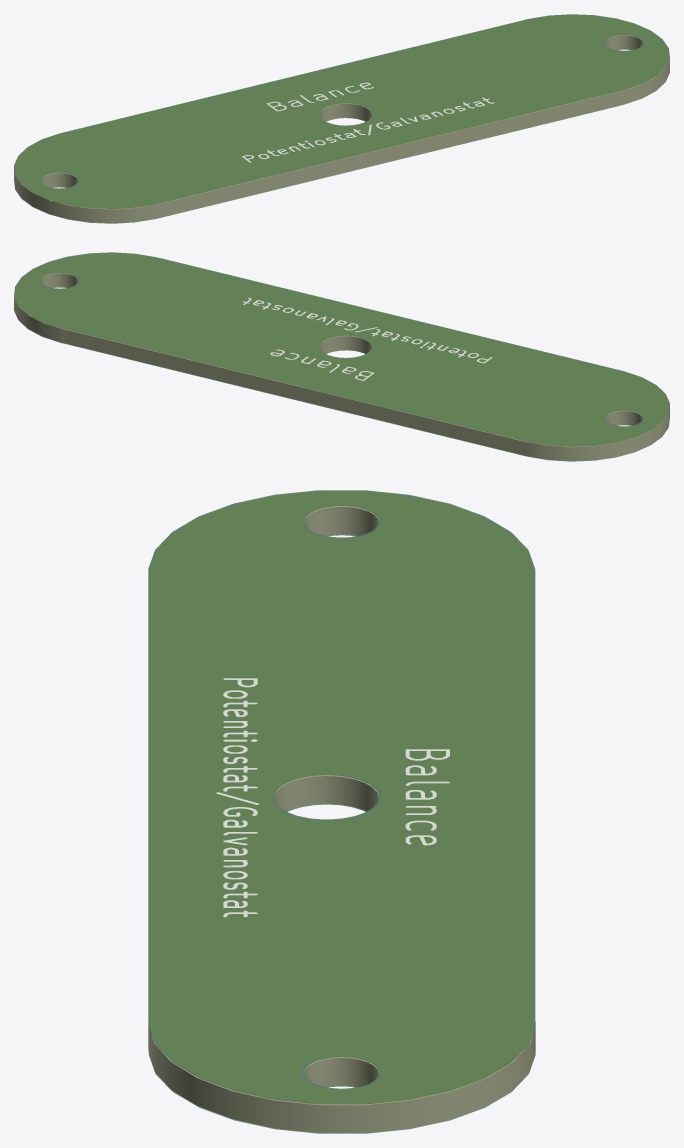
The model's file is front_panel.glb.
3 views of the same model, one above another, from view 1: azimuth 30°, elevation 25°; view 2: azimuth 150°, elevation 25°; view 3: azimuth 270°, elevation 25° (orthographic). The views are drawn at different scales.
Parts seen in each view (by area): view 1: frontpanel_soldermask (×2), frontpanel_copper, frontpanel_PCB, frontpanel_silkscreen; view 2: frontpanel_soldermask (×2), frontpanel_copper, frontpanel_PCB, frontpanel_silkscreen; view 3: frontpanel_soldermask, frontpanel_copper, frontpanel_PCB, frontpanel_silkscreen.
Part boxes in pixels (<box>): frontpanel_soldermask (×2): <box>14,14,669,223</box>; frontpanel_copper: <box>15,15,668,222</box>; frontpanel_PCB: <box>14,35,669,223</box>; frontpanel_silkscreen: <box>242,82,494,162</box>; frontpanel_soldermask (×2): <box>14,252,669,461</box>; frontpanel_copper: <box>15,253,668,460</box>; frontpanel_PCB: <box>14,272,669,461</box>; frontpanel_silkscreen: <box>243,297,492,380</box>; frontpanel_soldermask: <box>148,490,535,1104</box>; frontpanel_copper: <box>151,491,532,1131</box>; frontpanel_PCB: <box>148,496,535,1132</box>; frontpanel_silkscreen: <box>216,678,449,917</box>.
Size of the model in its own units: 0.0719 by 0.00163 by 0.0192.
